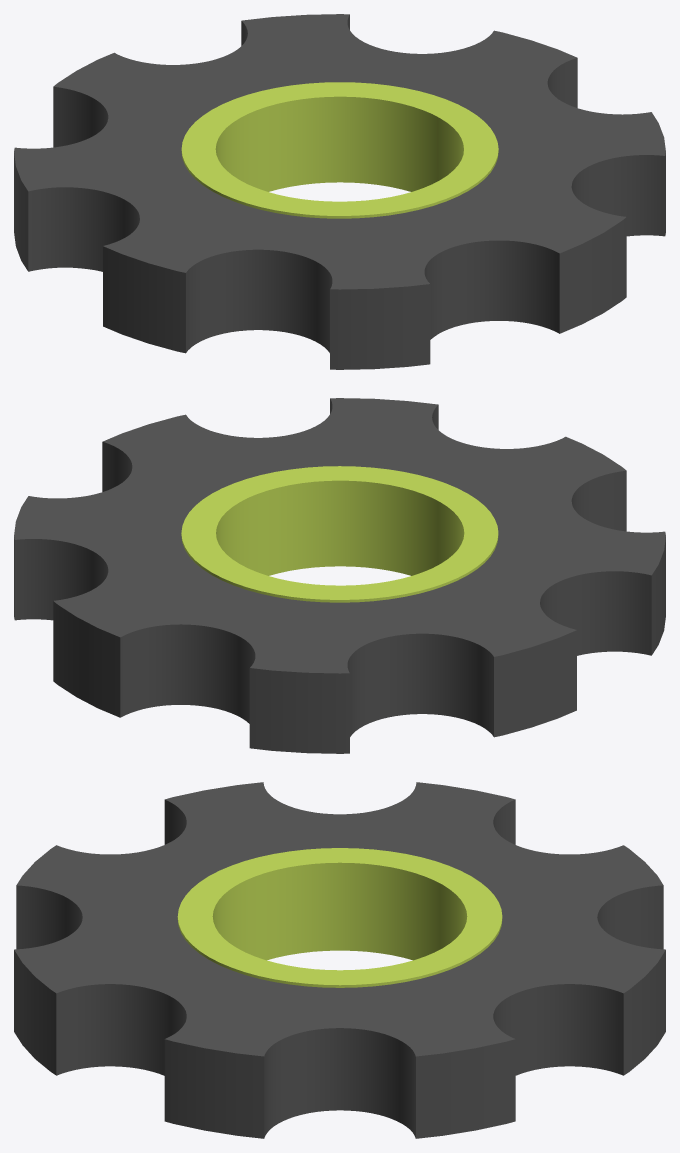
Rendered from engranaje.obj.
The picture shows the model from 3 angles, top to bottom: view 1: azimuth 30°, elevation 25°; view 2: azimuth 150°, elevation 25°; view 3: azimuth 270°, elevation 25°; orthographic projection. The views are drawn at different scales.
Visible parts, largest first — view 1: Cylinder001, Cylinder002; view 2: Cylinder001, Cylinder002; view 3: Cylinder001, Cylinder002.
Part boxes in pixels (left/top/right/bottom): Cylinder001: left=14, top=14, right=665, bottom=369; Cylinder002: left=181, top=82, right=498, bottom=218; Cylinder001: left=14, top=398, right=665, bottom=753; Cylinder002: left=181, top=466, right=498, bottom=602; Cylinder001: left=14, top=782, right=665, bottom=1138; Cylinder002: left=177, top=848, right=502, bottom=987.
Size of the model in its own units: 0.3652 by 0.0545 by 0.3667.
